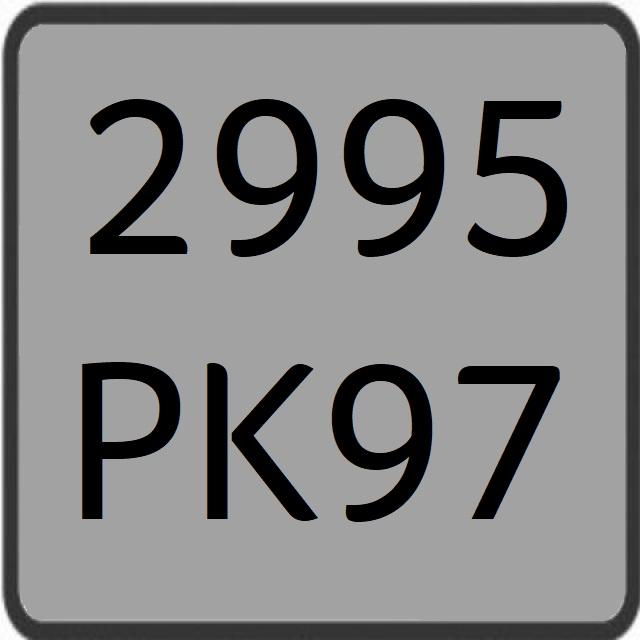2: (80, 85, 194, 276)
5: (469, 78, 579, 268)
7: (463, 342, 564, 533)
9: (327, 335, 441, 542), (215, 84, 324, 273), (338, 89, 447, 274)
K: (202, 340, 320, 537)
P: (71, 344, 186, 539)
